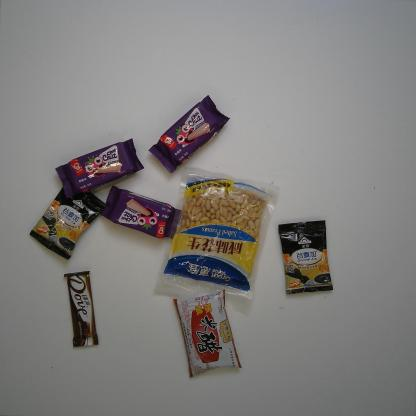Chocolate: (62, 270, 100, 350)
Dessert: (144, 92, 231, 175), (54, 136, 145, 199), (99, 182, 182, 241)
Dried Fruit: (151, 164, 281, 304)
Instant Drink: (26, 183, 107, 262), (275, 218, 334, 298)
Seasoner: (172, 285, 244, 382)
